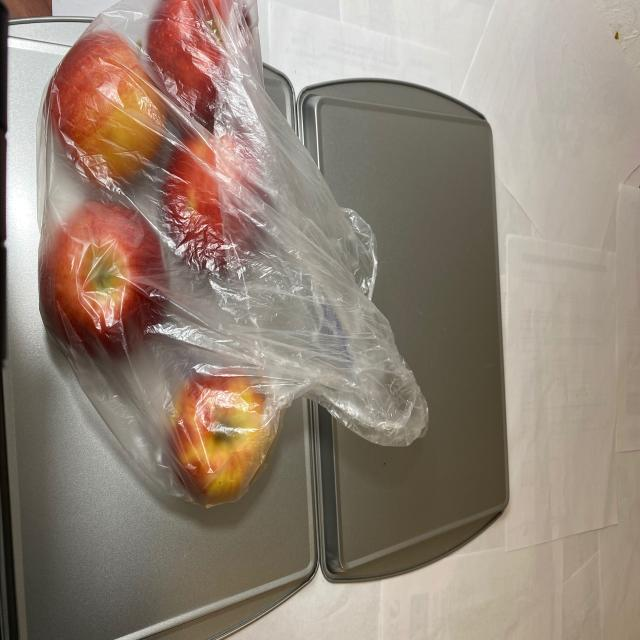apple: (34, 0, 324, 513)
